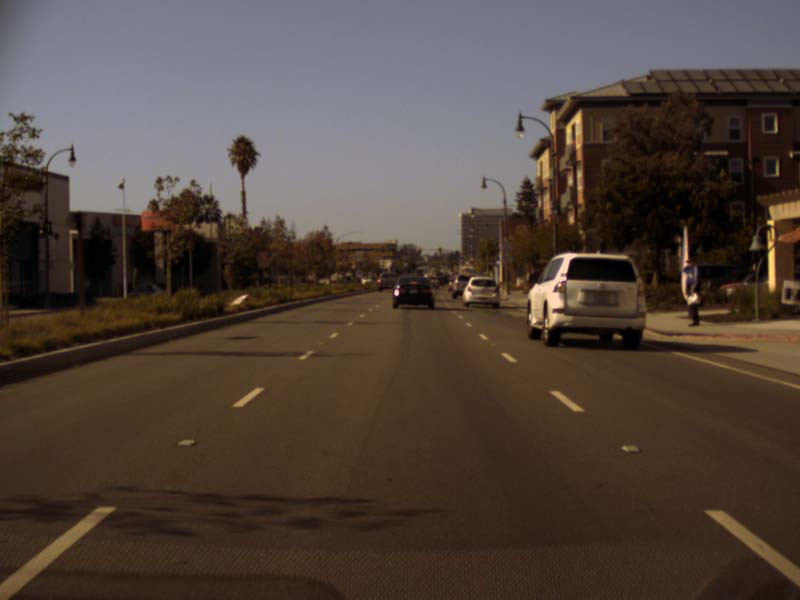Red: (418, 247, 420, 252)
